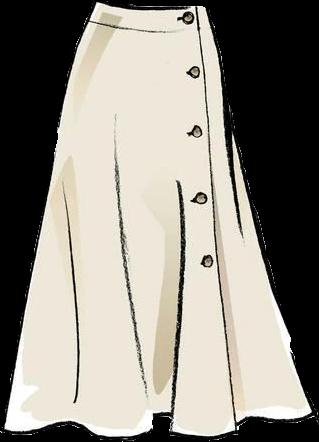Hemline: (0, 409, 318, 439)
Waistline: (86, 18, 210, 33), (93, 0, 203, 12)
